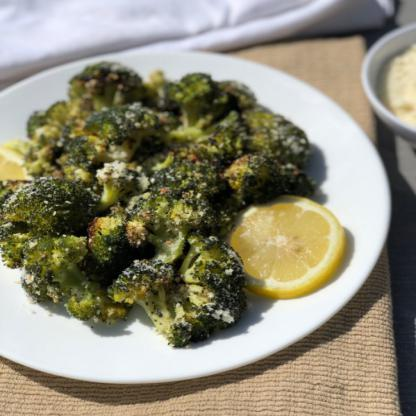broccoli: (0, 58, 314, 348)
